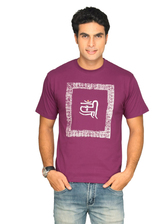clothoes: (33, 54, 150, 186)
watch: (37, 164, 56, 177)
